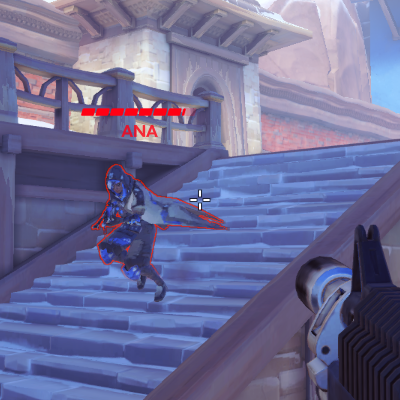hpbar: (81, 108, 197, 116)
